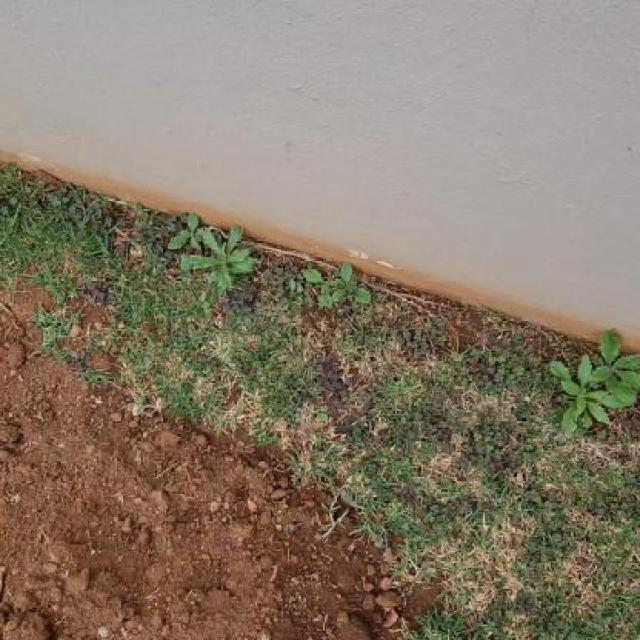weed: (552, 331, 640, 435), (169, 214, 257, 296), (300, 263, 372, 308)
